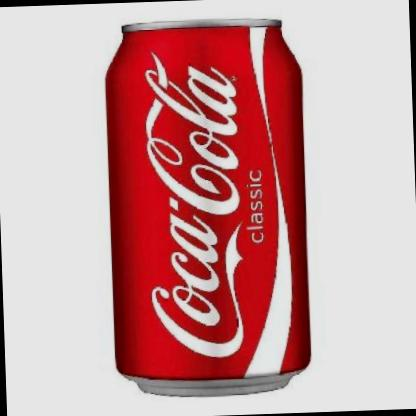alumunium_can: (104, 13, 316, 400)
